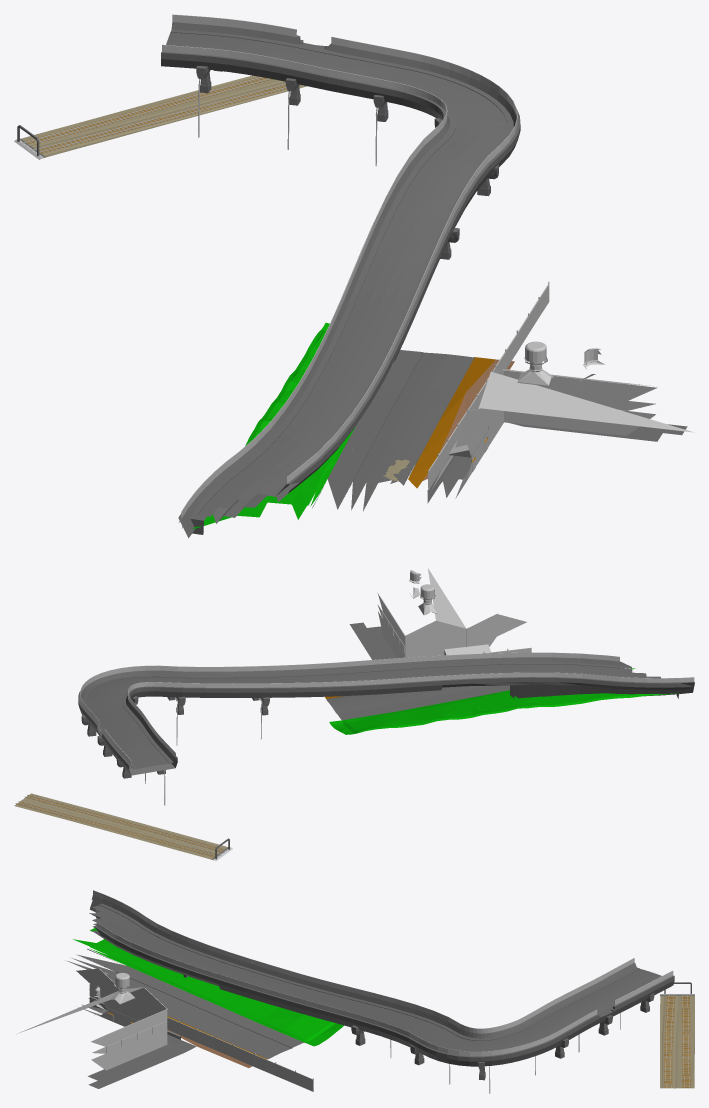
The model's file is bronx_e_10.FBX.
The picture shows the model from 3 angles, top to bottom: view 1: azimuth 30°, elevation 25°; view 2: azimuth 150°, elevation 25°; view 3: azimuth 270°, elevation 25°; orthographic projection. The views are drawn at different scales.
Visible parts, largest first — view 1: unnamed, null; view 2: unnamed, null; view 3: null, unnamed.
Boxes of the visible parts, x1,y1,x2,y2 form: unnamed: [14, 14, 520, 538]; null: [280, 161, 694, 503]; unnamed: [14, 652, 694, 860]; null: [188, 568, 531, 739]; null: [16, 948, 408, 1091]; unnamed: [66, 890, 694, 1093].
Size of the model in its own units: 166 by 35.85 by 231.
